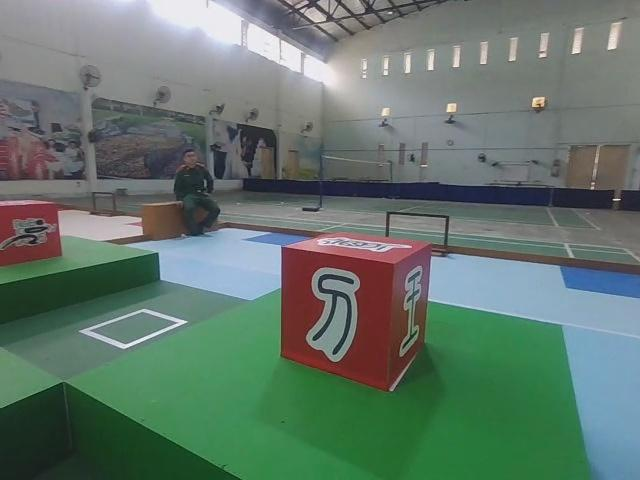R1: (0, 195, 65, 267)
R2 Fake: (277, 226, 434, 395)
